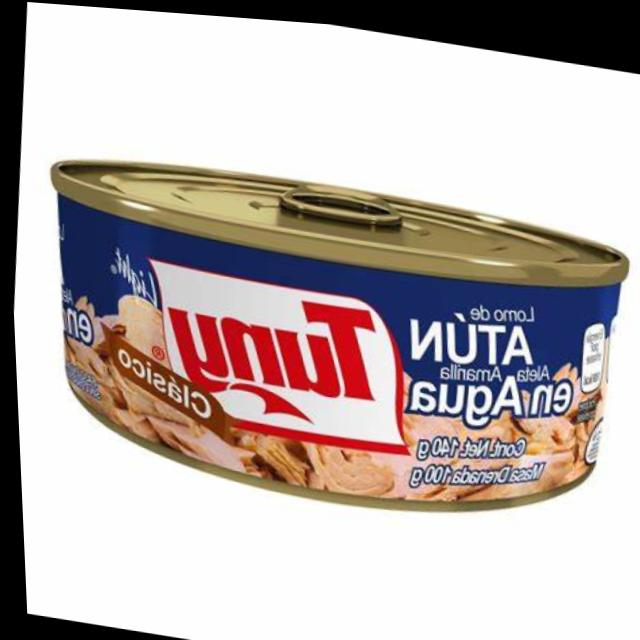Lata: (32, 128, 640, 557)
